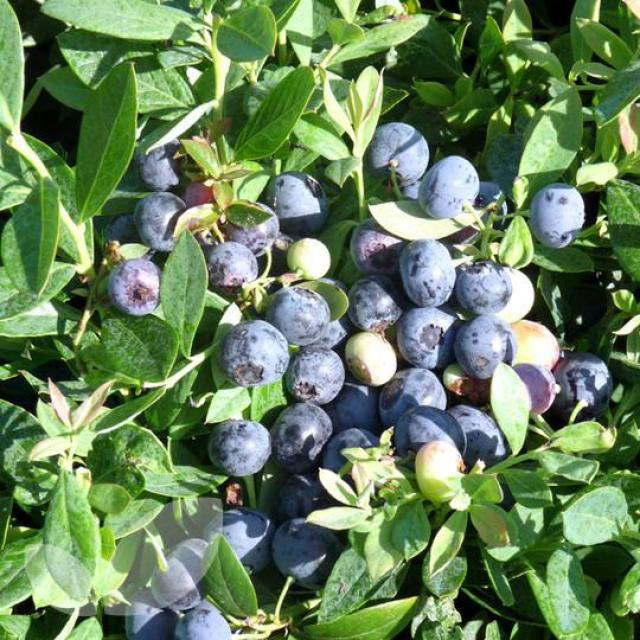BlueBerry - v1: (252, 167, 342, 255), (195, 404, 276, 488), (269, 519, 358, 590), (141, 535, 225, 608), (194, 500, 280, 570), (405, 150, 479, 227), (210, 325, 295, 391), (520, 174, 590, 250), (440, 394, 506, 474), (380, 362, 454, 433), (395, 232, 461, 310), (101, 254, 174, 324), (213, 197, 290, 260), (272, 401, 334, 476), (261, 280, 329, 348), (363, 124, 428, 194), (282, 341, 346, 410), (404, 441, 471, 506), (124, 187, 188, 255), (347, 209, 409, 277), (268, 476, 346, 530), (396, 302, 459, 368), (128, 132, 192, 196), (561, 347, 614, 421), (341, 328, 402, 391), (495, 362, 563, 418), (454, 316, 512, 381), (455, 257, 514, 320), (201, 238, 262, 295), (110, 588, 173, 640), (507, 315, 564, 372), (352, 277, 410, 333), (330, 424, 385, 480), (160, 598, 241, 636), (494, 262, 536, 326), (95, 209, 147, 251), (282, 236, 334, 278), (340, 385, 382, 434), (472, 179, 513, 226)
